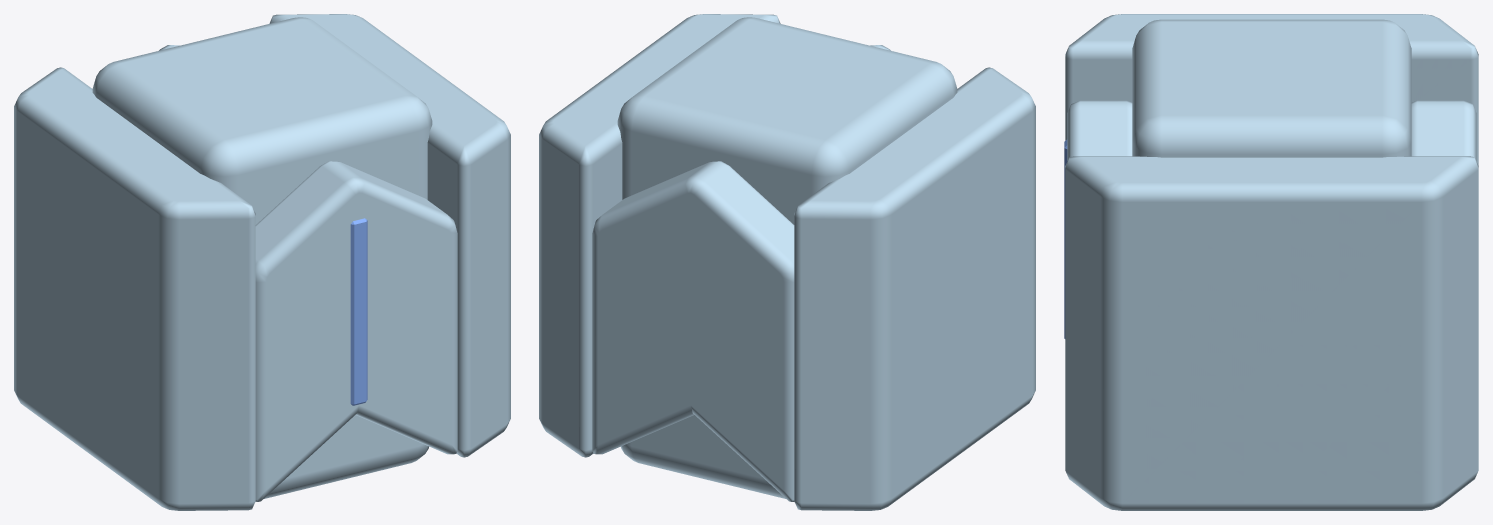
File: R4X_HullBooster.glb
3 views of the same model, side by side, from view 1: azimuth 30°, elevation 25°; view 2: azimuth 150°, elevation 25°; view 3: azimuth 270°, elevation 25° (orthographic). The views are drawn at different scales.
Visible parts, largest first — view 1: R4X_HullBooster_Body; view 2: R4X_HullBooster_Body; view 3: R4X_HullBooster_Body.
Part boxes in pixels (x1=…): R4X_HullBooster_Body: x1=14, y1=14, x2=510, y2=510; R4X_HullBooster_Body: x1=539, y1=14, x2=1035, y2=510; R4X_HullBooster_Body: x1=1064, y1=14, x2=1478, y2=510.
Size of the model in its own units: 0.52 by 0.52 by 0.504.
